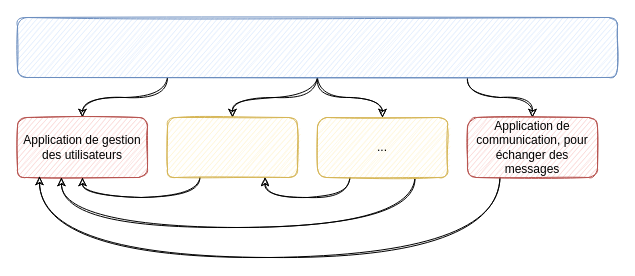
Image size: 635x276. Some labels were removed from this diagram. The shapes that lost their labels are listed below. From the top down, each one's box as (x1, y1, x2, y2) in pixels, then its label:
(16, 16, 618, 78): Gwift
(166, 116, 298, 178): Application de gestion des listes de souhaits
